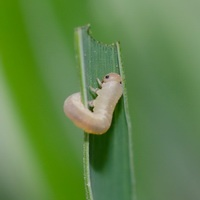insect: (64, 73, 121, 133)
